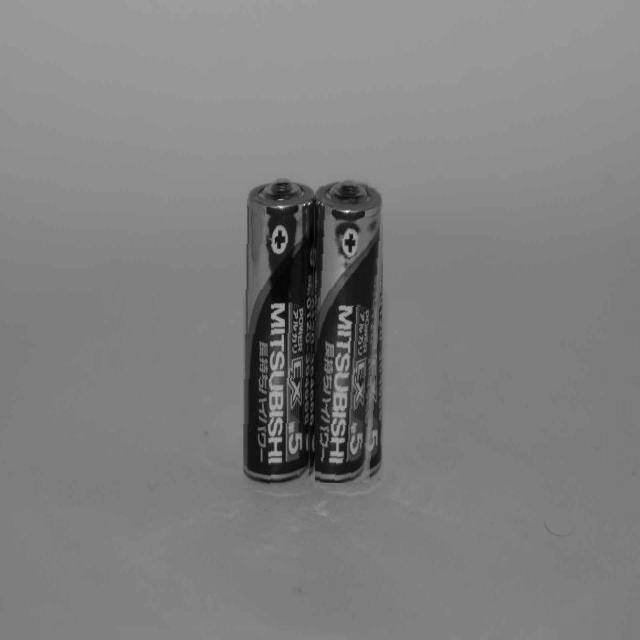battery: (243, 176, 316, 490), (315, 177, 387, 483)
